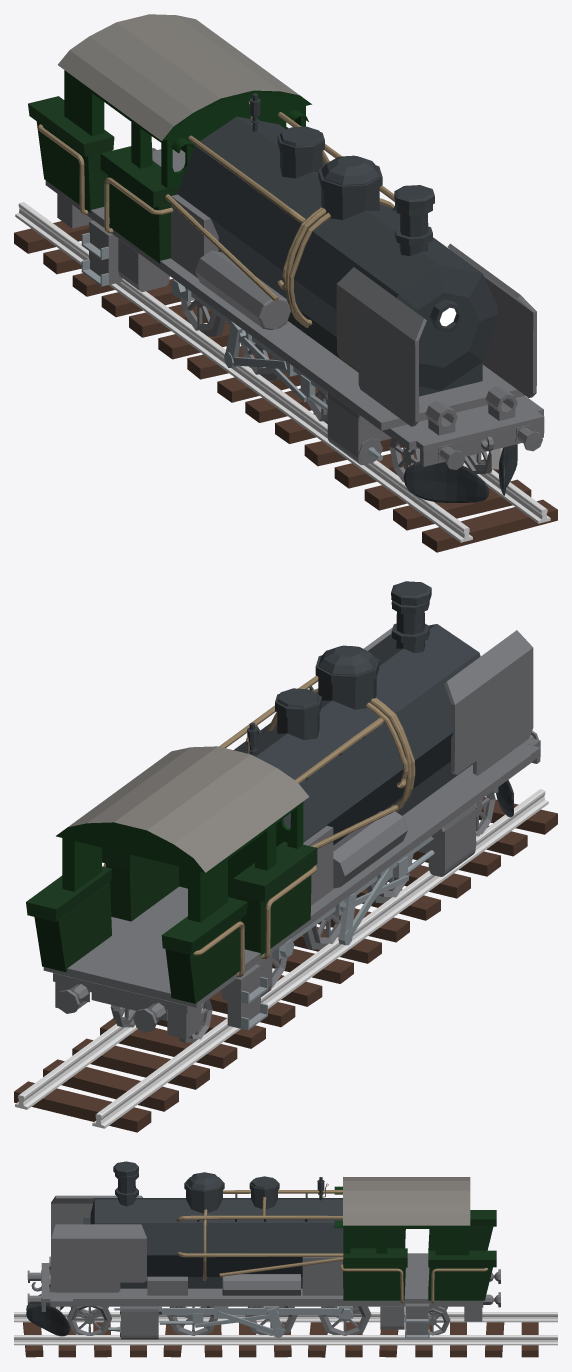
Rendered from train.glb.
The picture shows the model from 3 angles, top to bottom: view 1: azimuth 30°, elevation 25°; view 2: azimuth 150°, elevation 25°; view 3: azimuth 270°, elevation 25°; orthographic projection. The views are drawn at different scales.
Visible parts, largest first — view 1: object 1, Cube, Cube.001, Wheel, Wheel.003; view 2: object 1, Cube, Cube.001, Wheel.004, Wheel.002; view 3: object 1, Cube, Cube.001, Wheel, Wheel.003, Wheel.001, Wheel.004, Wheel.002.
Boxes of the visible parts, x1,y1,x2,y2 form: object 1: (28,14,544,502); Cube: (14,202,557,552); Cube.001: (57,194,390,465); Wheel: (389,438,492,482); Wheel.003: (180,297,225,336); object 1: (26,581,540,1032); Cube: (14,789,557,1132); Cube.001: (55,804,476,1039); Wheel.004: (110,998,212,1042); Wheel.002: (303,914,342,949); object 1: (26,1161,500,1336); Cube: (14,1312,557,1357); Cube.001: (108,1303,482,1339); Wheel: (67,1306,111,1335); Wheel.003: (318,1306,371,1335); Wheel.001: (167,1306,217,1335); Wheel.004: (429,1306,450,1335); Wheel.002: (245,1306,297,1335).
Size of the model in its own units: 1.44 by 2.3 by 6.56.
